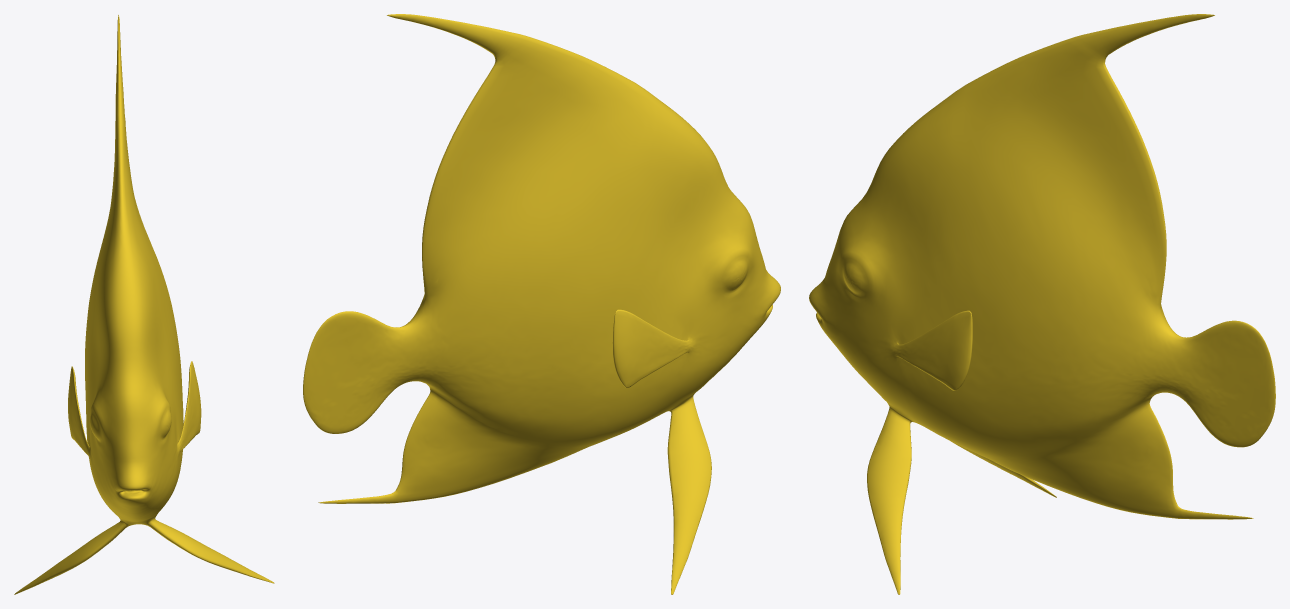
Rendered from Angel_Fish.fbx.
The picture shows the model from 3 angles, left to right: view 1: azimuth 30°, elevation 25°; view 2: azimuth 150°, elevation 25°; view 3: azimuth 270°, elevation 25°; orthographic projection. The views are drawn at different scales.
Parts seen in each view (by area): view 1: angel_fish; view 2: angel_fish; view 3: angel_fish.
Part boxes in pixels (x1,y1,x2,y2): angel_fish: [14, 15, 274, 594]; angel_fish: [303, 14, 780, 594]; angel_fish: [809, 14, 1275, 594].
Bounding box in the file's own units: 463 × 1003 × 730.
